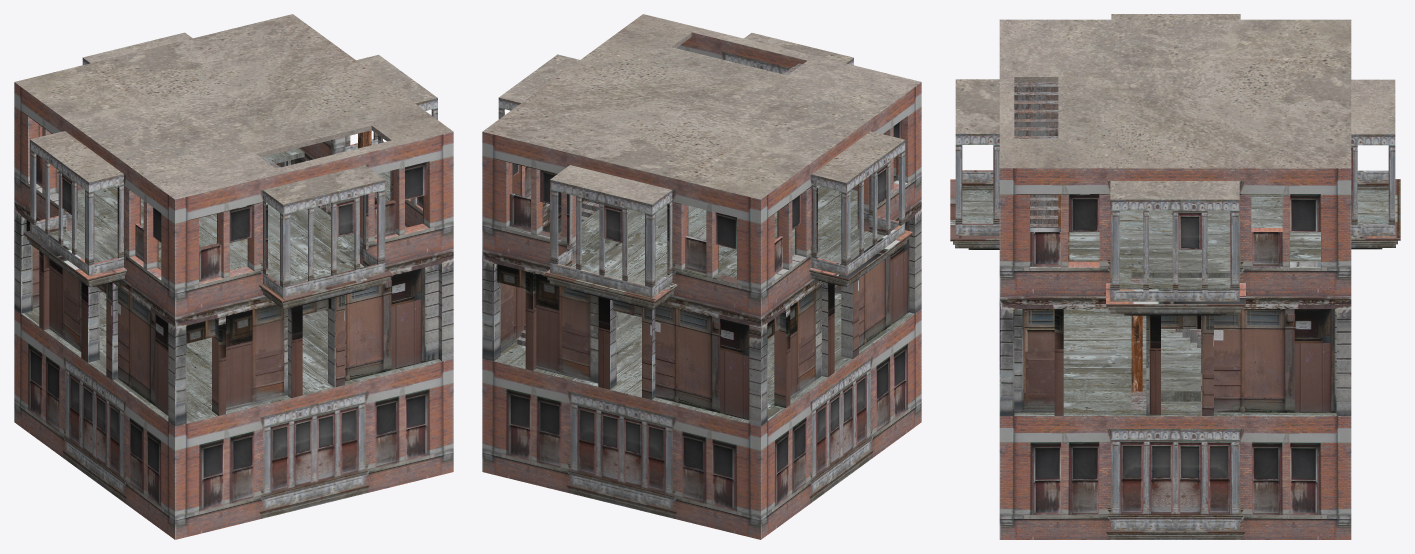
Rendered from BagBuilding7High.fbx.
3 views of the same model, side by side, from view 1: azimuth 30°, elevation 25°; view 2: azimuth 150°, elevation 25°; view 3: azimuth 270°, elevation 25° (orthographic). The views are drawn at different scales.
Parts seen in each view (by area): view 1: mainA300, roofA300, floorsA300; view 2: mainA300, roofA300, floorsA300; view 3: mainA300, roofA300, floorsA300, stairsA300, pilarsA300.
Boxes of the visible parts, box(x1,y1,x2,y2) form: mainA300: box(14, 58, 453, 539); roofA300: box(14, 14, 453, 204); floorsA300: box(21, 148, 441, 423); mainA300: box(482, 32, 921, 539); roofA300: box(482, 14, 921, 204); floorsA300: box(494, 186, 914, 423); mainA300: box(950, 134, 1400, 539); roofA300: box(955, 14, 1395, 199); floorsA300: box(962, 189, 1388, 415); stairsA300: box(1014, 82, 1200, 409); pilarsA300: box(1058, 194, 1142, 391).
Bounding box in the file's own units: 24.4 × 22.22 × 24.4.
